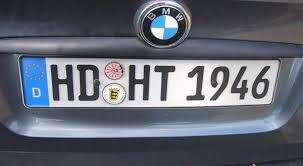1: (183, 65, 207, 102)
4: (230, 65, 250, 101)
6: (252, 66, 272, 99)
9: (208, 66, 230, 101)
D: (75, 63, 101, 103)
H: (48, 62, 76, 104), (127, 64, 152, 102)
T: (152, 65, 180, 102)
